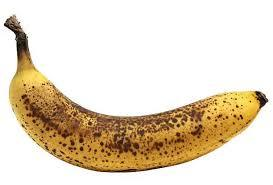banana: (4, 14, 269, 173)
